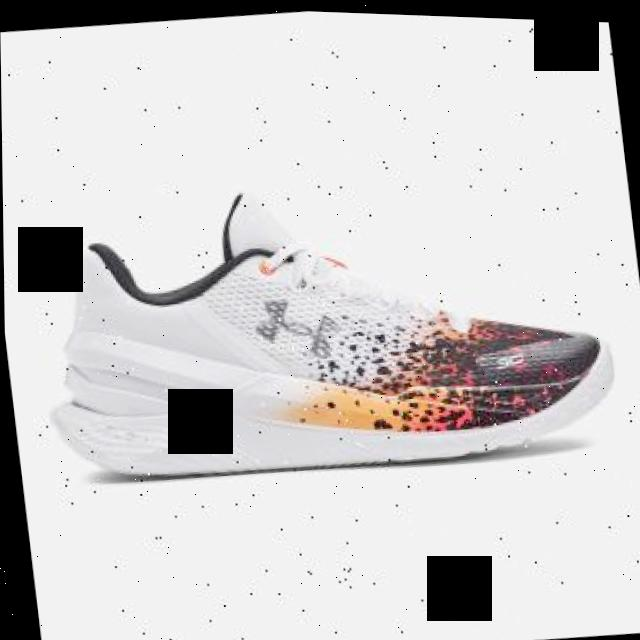shoe: (23, 147, 621, 500)
